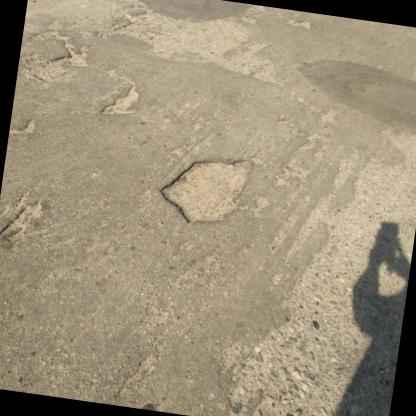pothole: (154, 143, 258, 232), (0, 193, 46, 243), (98, 78, 141, 121), (50, 40, 94, 72)
